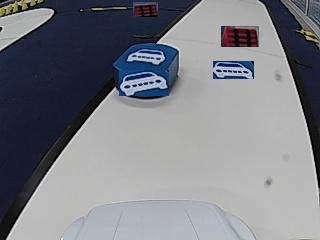safety: (127, 49, 166, 65)
